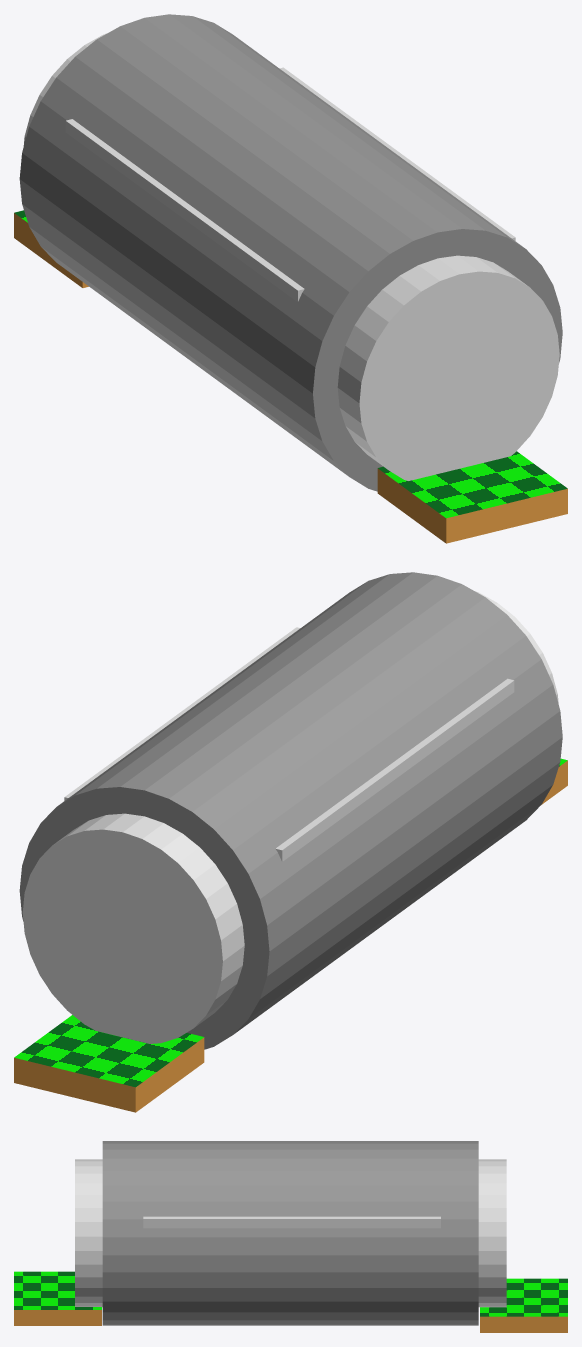
Rendered from wind-tunnel.glb.
The picture shows the model from 3 angles, top to bottom: view 1: azimuth 30°, elevation 25°; view 2: azimuth 150°, elevation 25°; view 3: azimuth 270°, elevation 25°; orthographic projection. The views are drawn at different scales.
Parts seen in each view (by area): view 1: Cylinder, Cylinder.001, Cube, Cube.002, Cube.001; view 2: Cylinder, Cylinder.001, Cube.001, Cube.002; view 3: Cylinder, Cylinder.001, Cube.001, Cube.002, Cube.
Boxes of the visible parts, left/top/right/bottom form: Cylinder: left=19, top=14, right=562, bottom=491; Cylinder.001: left=23, top=33, right=559, bottom=480; Cube: left=377, top=451, right=567, bottom=543; Cube.002: left=65, top=67, right=515, bottom=301; Cube.001: left=14, top=210, right=88, bottom=287; Cylinder: left=19, top=572, right=562, bottom=1049; Cylinder.001: left=22, top=591, right=558, bottom=1043; Cube.001: left=14, top=1015, right=204, bottom=1112; Cube.002: left=64, top=627, right=514, bottom=861; Cylinder: left=102, top=1141, right=478, bottom=1325; Cylinder.001: left=75, top=1159, right=506, bottom=1307; Cube.001: left=480, top=1278, right=567, bottom=1332; Cube.002: left=143, top=1216, right=440, bottom=1228; Cube: left=14, top=1271, right=101, bottom=1325.
Size of the model in its own units: 24.8 by 24.8 by 74.3.
Materials: 4 (2 with a texture image).
